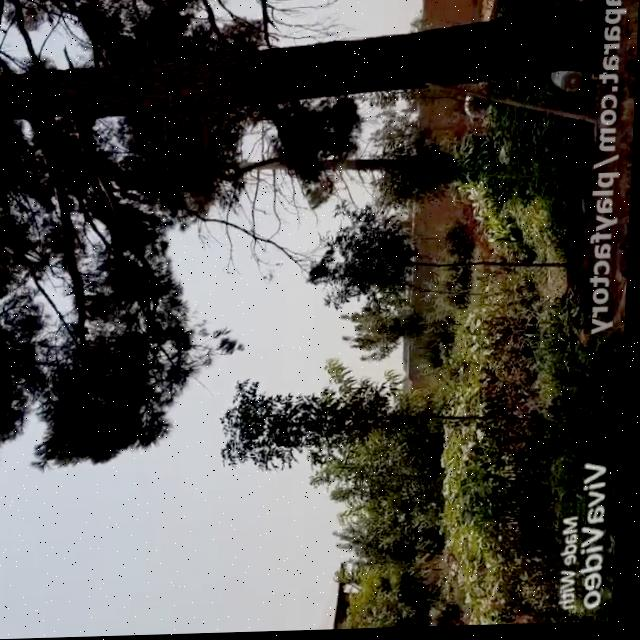drone: (265, 268, 277, 287)
